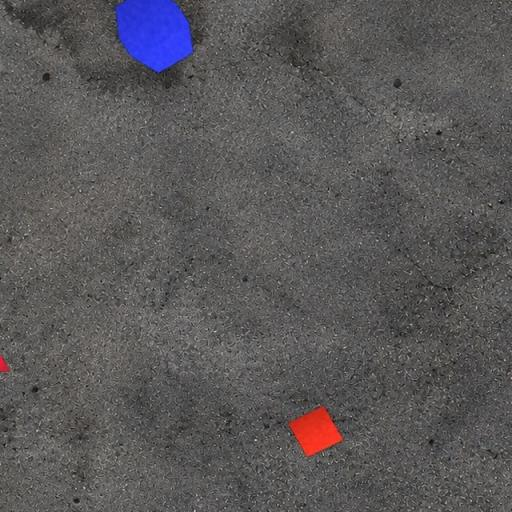RED_SQUARE: (288, 404, 345, 458)
